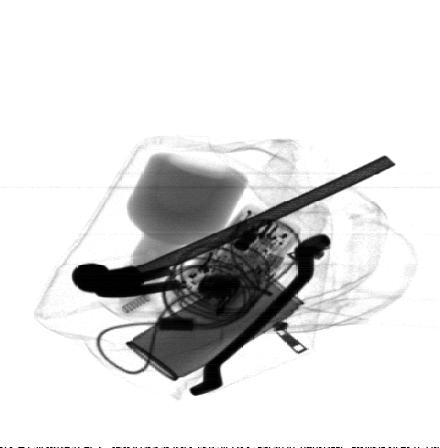Hammer: (71, 154, 396, 298)
Wrench: (189, 233, 331, 397)
